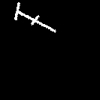double_crochet: (14, 3, 54, 31)
